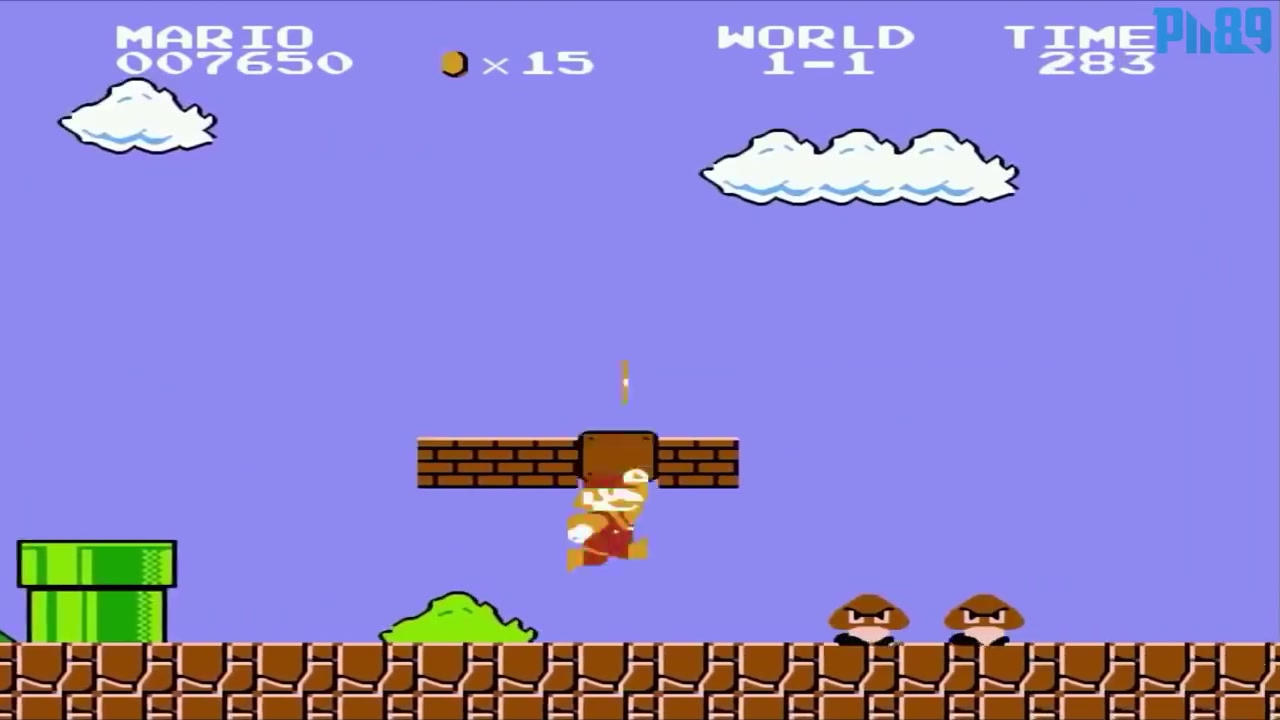mario: (566, 471, 677, 573)
